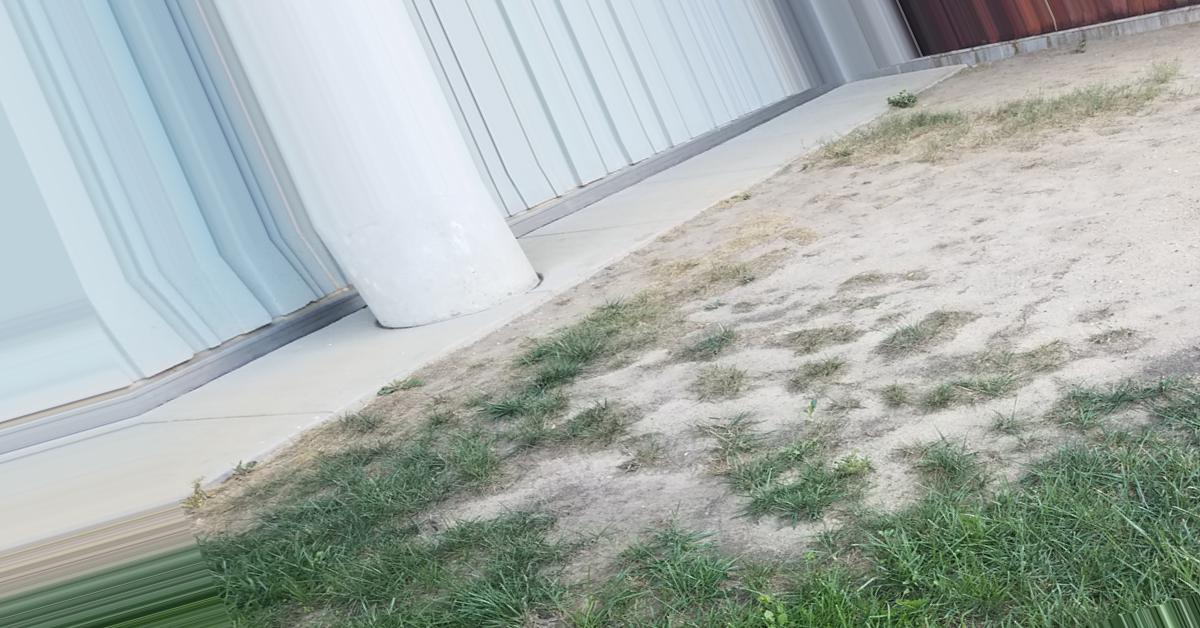patch: (880, 151, 1134, 351), (728, 221, 882, 438), (979, 69, 1177, 146), (621, 343, 734, 441), (1135, 158, 1198, 290)
